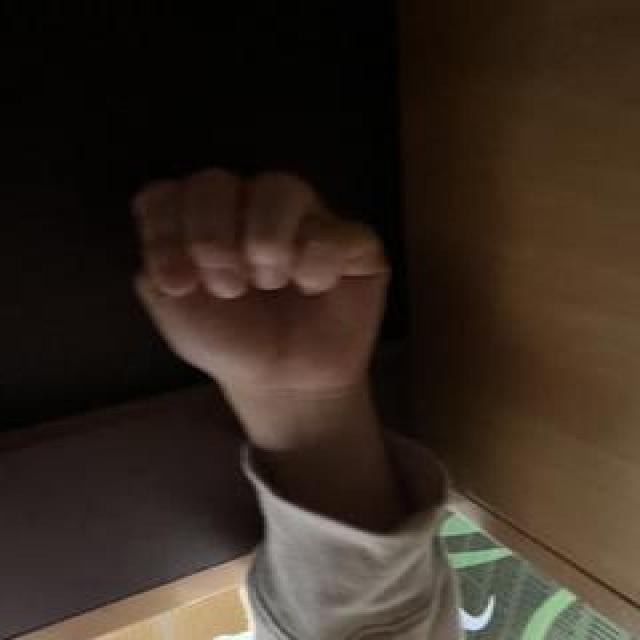M: (123, 151, 400, 395)
